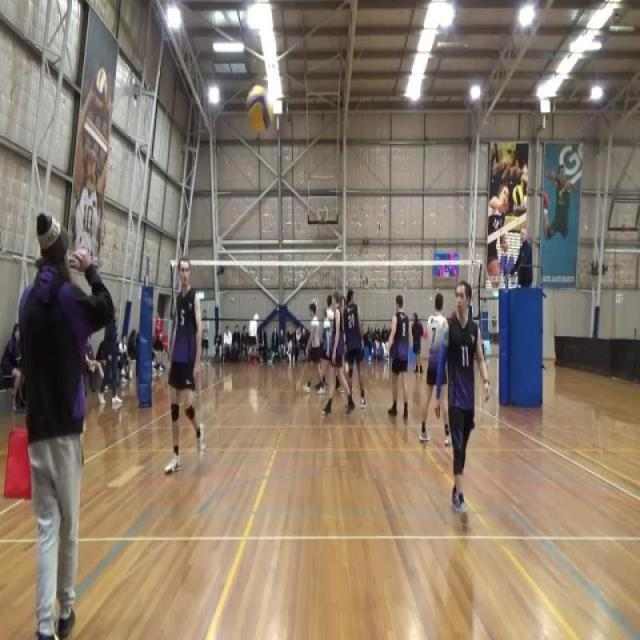volleyball: (244, 83, 274, 136), (94, 67, 110, 111), (512, 184, 525, 207)
